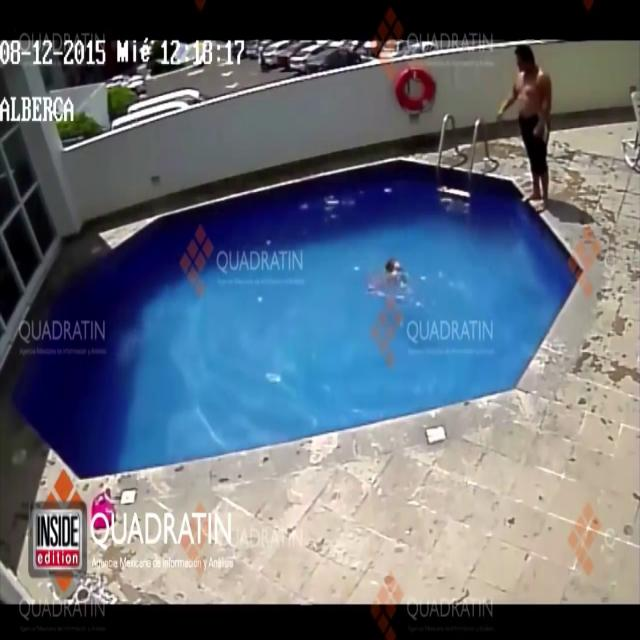adult: (500, 44, 559, 210)
child: (371, 257, 411, 292)
